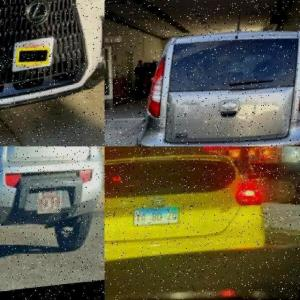Plate: (13, 41, 55, 76), (133, 210, 180, 228), (37, 193, 63, 218)
